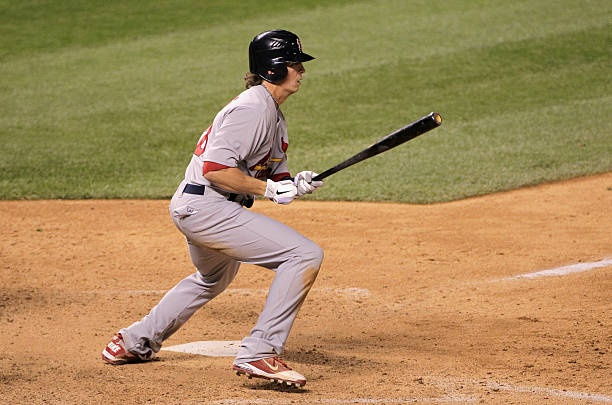bita: (299, 108, 454, 188)
